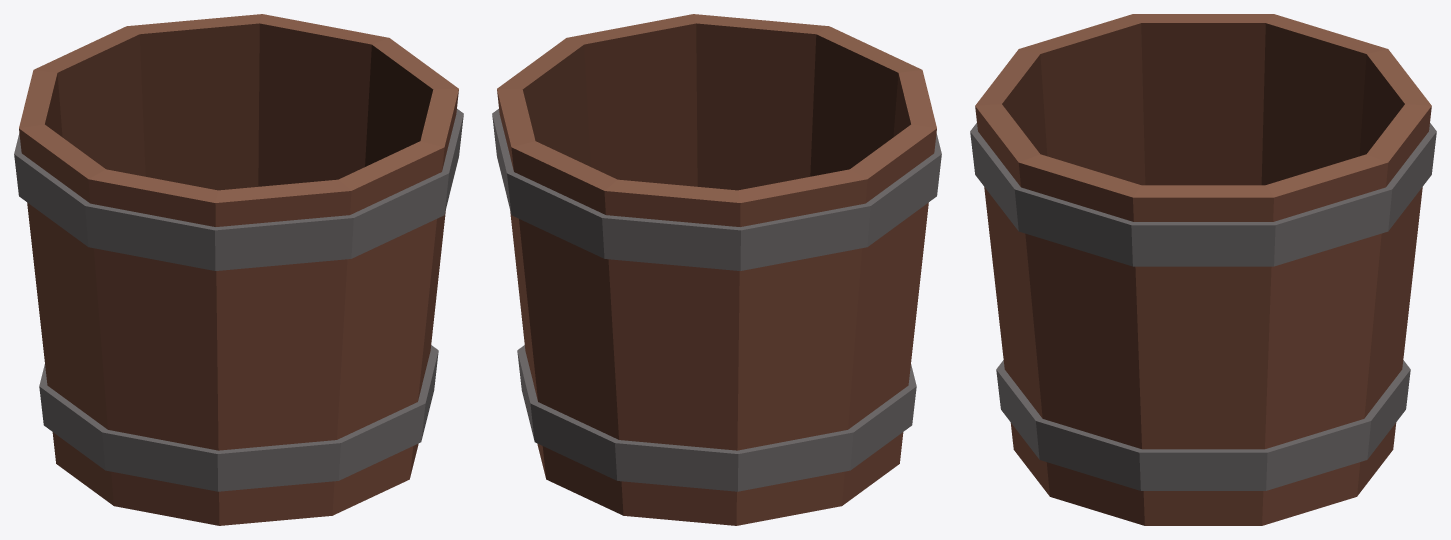
The model's file is Bucket.glb.
3 views of the same model, side by side, from view 1: azimuth 30°, elevation 25°; view 2: azimuth 150°, elevation 25°; view 3: azimuth 270°, elevation 25° (orthographic).
Parts seen in each view (by area): view 1: Bucket; view 2: Bucket; view 3: Bucket.
Part boxes in pixels (x1=…): Bucket: x1=14, y1=14, x2=463, y2=525; Bucket: x1=492, y1=14, x2=941, y2=525; Bucket: x1=970, y1=14, x2=1436, y2=525.
Size of what is drawn, in the model's own units: 0.5123 by 0.44 by 0.5386.
Materials: 1 (1 with a texture image).
